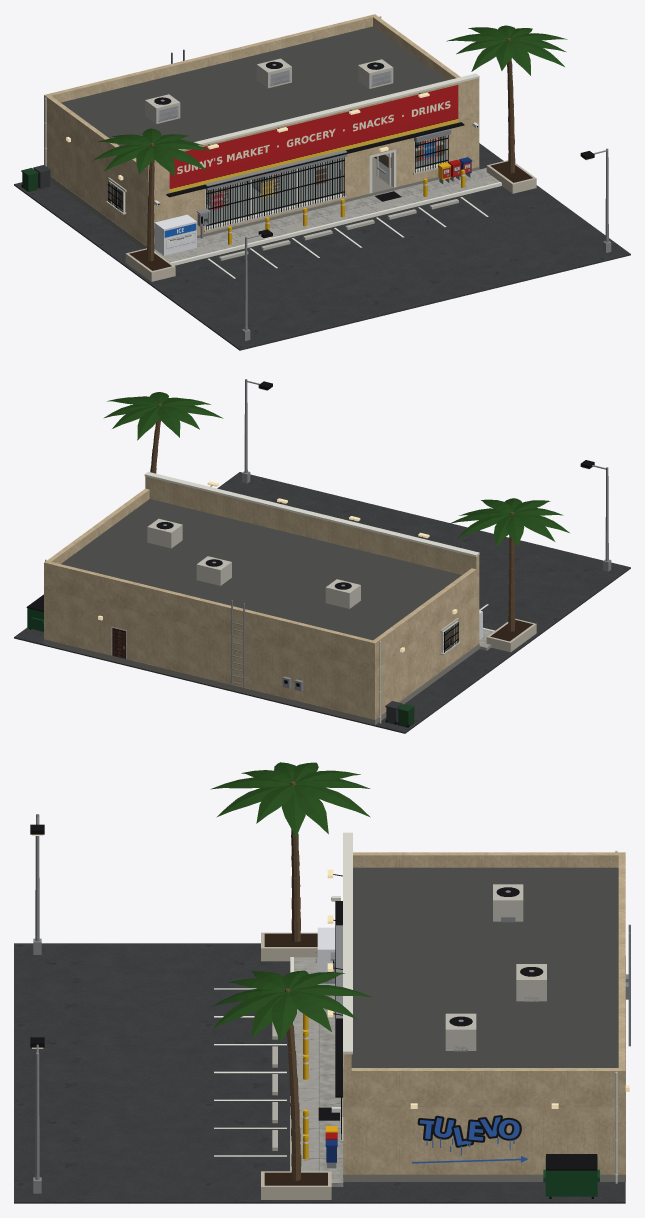
Rendered from Store.glb.
3 views of the same model, one above another, from view 1: azimuth 30°, elevation 25°; view 2: azimuth 150°, elevation 25°; view 3: azimuth 270°, elevation 25° (orthographic). The views are drawn at different scales.
Visible parts, largest first — view 1: Asphalt, Flat, StoreSign, WallL, Palm, Concrete, Foundation, WinIron, ParapetB, ClearGlass1, Pole, WallF1 (+22 smaller); view 2: Flat, WallB, Asphalt, ParapetF, WallL, Palm, ParapetB, Foundation, AcBody, Trim, ParapetL, Pole (+4 smaller); view 3: Asphalt, Flat, WallR, Palm, Concrete, ParapetR, ParapetL, AcBody, Dark, Pole, Tag, Trunk (+10 smaller).
Boxes of the visible parts, bbox=[...] form: Asphalt: bbox=[14, 143, 630, 350]; Flat: bbox=[61, 26, 446, 157]; StoreSign: bbox=[169, 85, 458, 192]; WallL: bbox=[44, 104, 145, 245]; Palm: bbox=[92, 25, 567, 176]; Concrete: bbox=[154, 168, 499, 262]; Foundation: bbox=[50, 154, 479, 248]; WinIron: bbox=[107, 135, 448, 230]; ParapetB: bbox=[49, 15, 372, 102]; ClearGlass1: bbox=[207, 158, 341, 226]; Pole: bbox=[160, 49, 611, 340]; WallF1: bbox=[145, 175, 205, 246]; Flat: bbox=[61, 499, 461, 640]; WallB: bbox=[48, 573, 370, 718]; Asphalt: bbox=[14, 472, 630, 733]; ParapetF: bbox=[145, 476, 479, 578]; WallL: bbox=[370, 579, 476, 719]; Palm: bbox=[103, 392, 569, 547]; ParapetB: bbox=[48, 562, 372, 651]; Foundation: bbox=[43, 639, 479, 725]; AcBody: bbox=[147, 518, 360, 608]; Trim: bbox=[144, 471, 479, 556]; ParapetL: bbox=[370, 568, 476, 652]; Pole: bbox=[163, 379, 611, 687]; Asphalt: bbox=[14, 943, 625, 1203]; Flat: bbox=[351, 867, 618, 1067]; WallR: bbox=[350, 1084, 625, 1174]; Palm: bbox=[210, 762, 372, 1042]; Concrete: bbox=[294, 957, 343, 1186]; ParapetR: bbox=[351, 1068, 625, 1083]; ParapetL: bbox=[353, 852, 625, 867]; AcBody: bbox=[445, 884, 546, 1050]; Dark: bbox=[30, 824, 597, 1198]; Pole: bbox=[33, 814, 630, 1193]; Tag: bbox=[412, 1115, 527, 1163]; Trunk: bbox=[285, 781, 301, 1180].
Size of the model in its own units: 111 by 33.9 by 94.39.
Materials: 57 (57 with a texture image).
